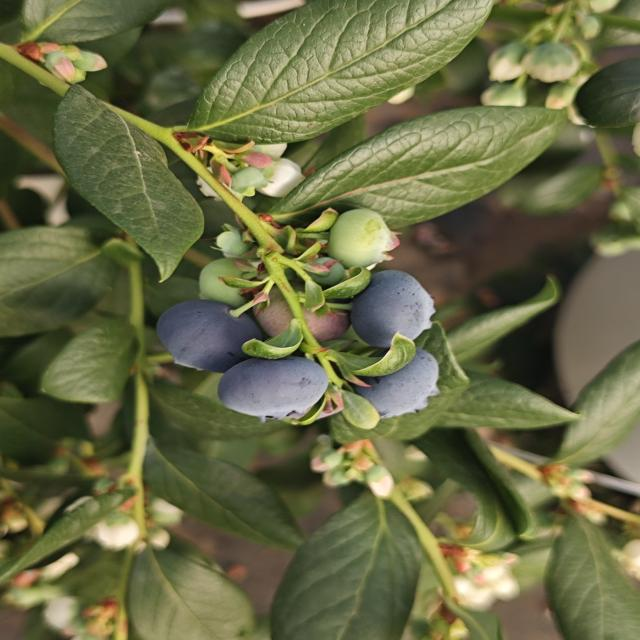ripe: (212, 353, 340, 425), (344, 342, 444, 426), (346, 258, 435, 343), (154, 305, 247, 380)
